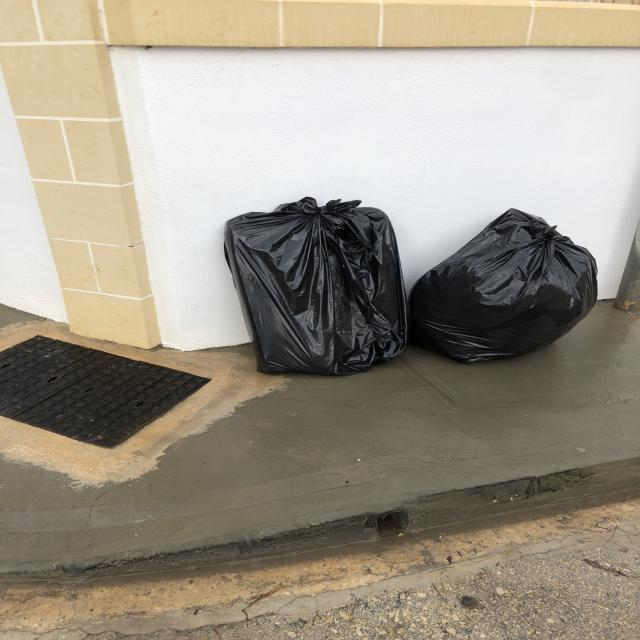Mixed Waste -Black Bag-: (224, 206, 408, 376), (408, 210, 599, 364)
